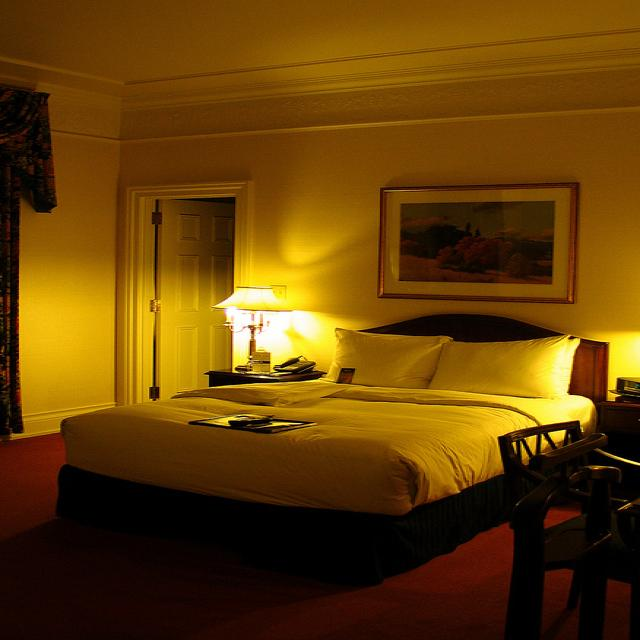Table: (570, 405, 640, 624), (212, 355, 318, 416)
chair: (470, 395, 585, 604)
